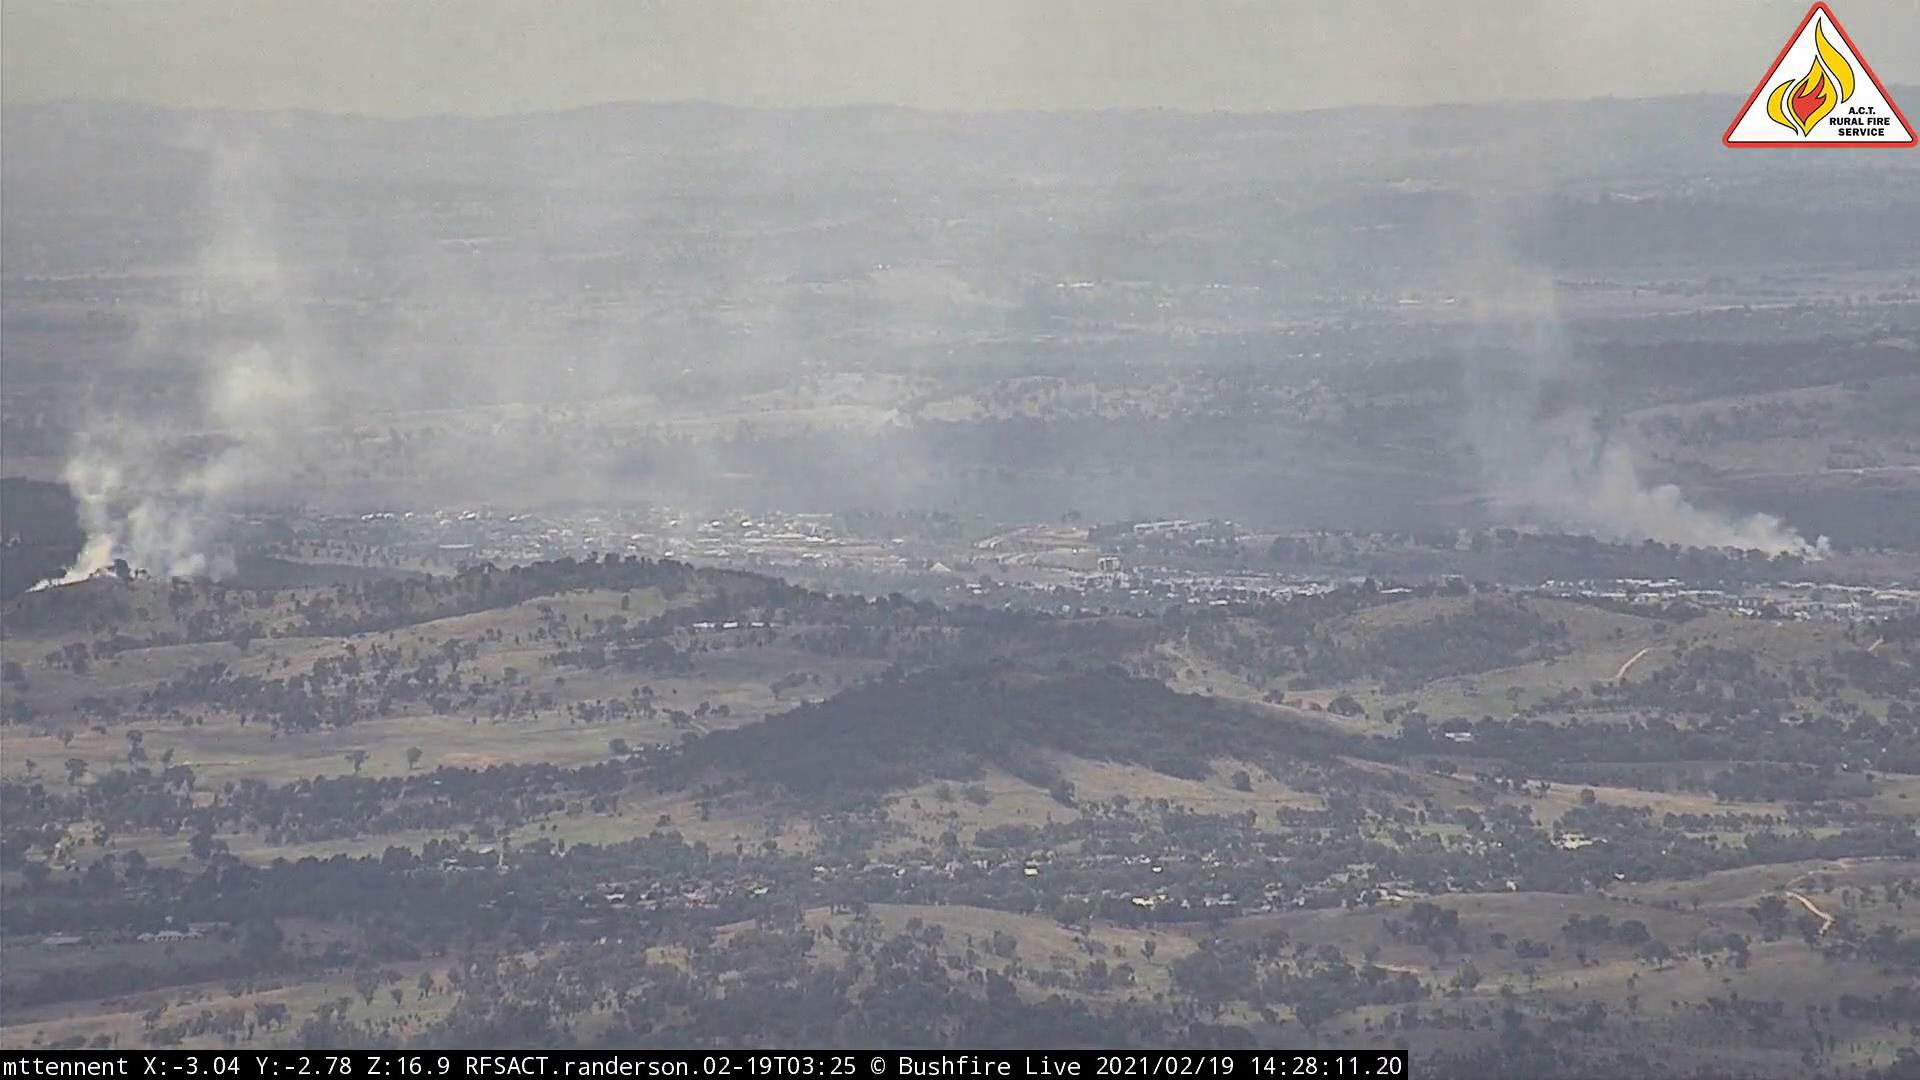Smoke: (26, 218, 401, 605), (1445, 270, 1861, 574)
